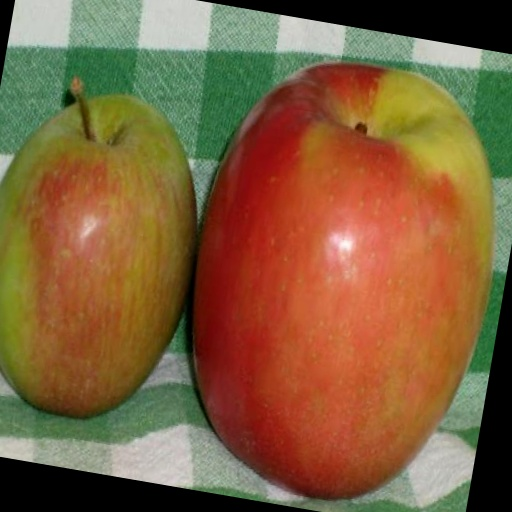fruit: (193, 63, 494, 498), (0, 79, 195, 417)
